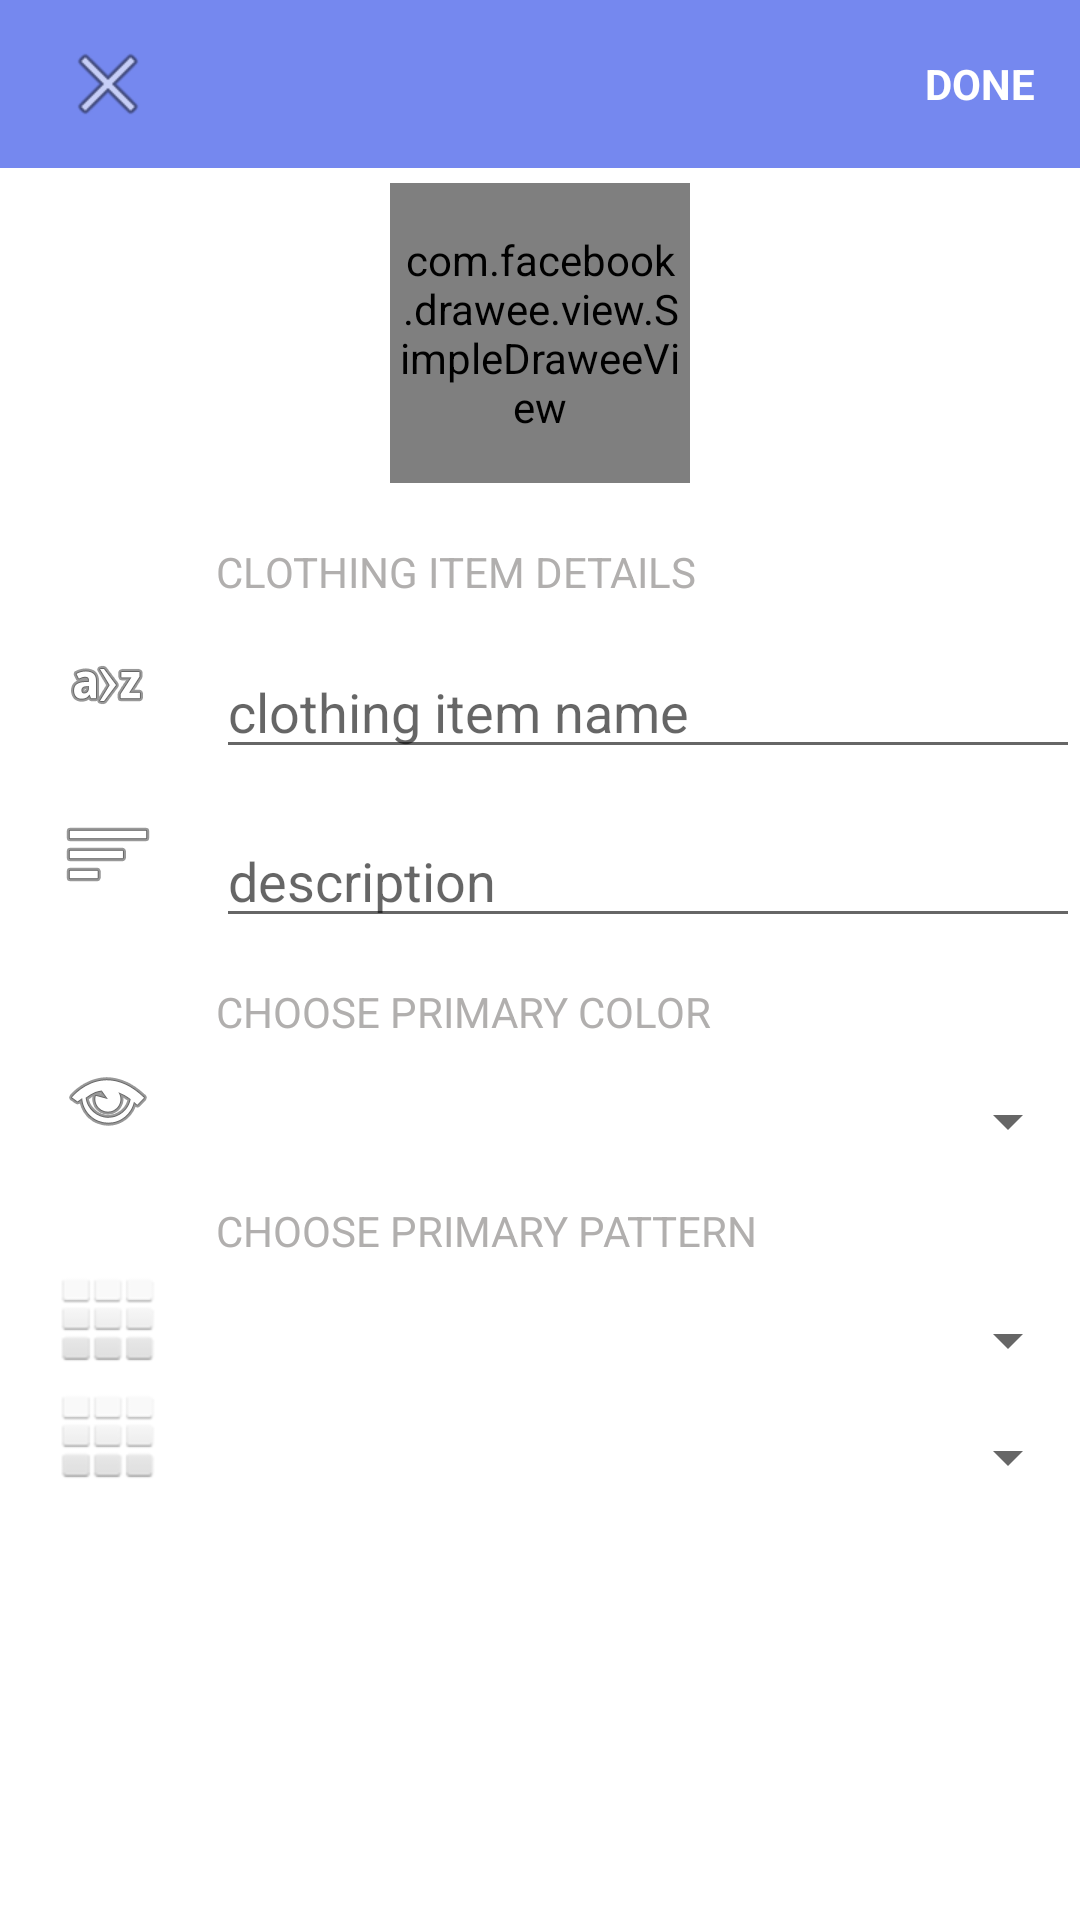

Point at icon controls on the screen. Image size 1080×1920, points as (x=x, y=y).
close clear cancel: (x=108, y=84)
sort alphabetically: (x=107, y=685)
sort by size: (x=108, y=854)
view: (x=108, y=1101)
